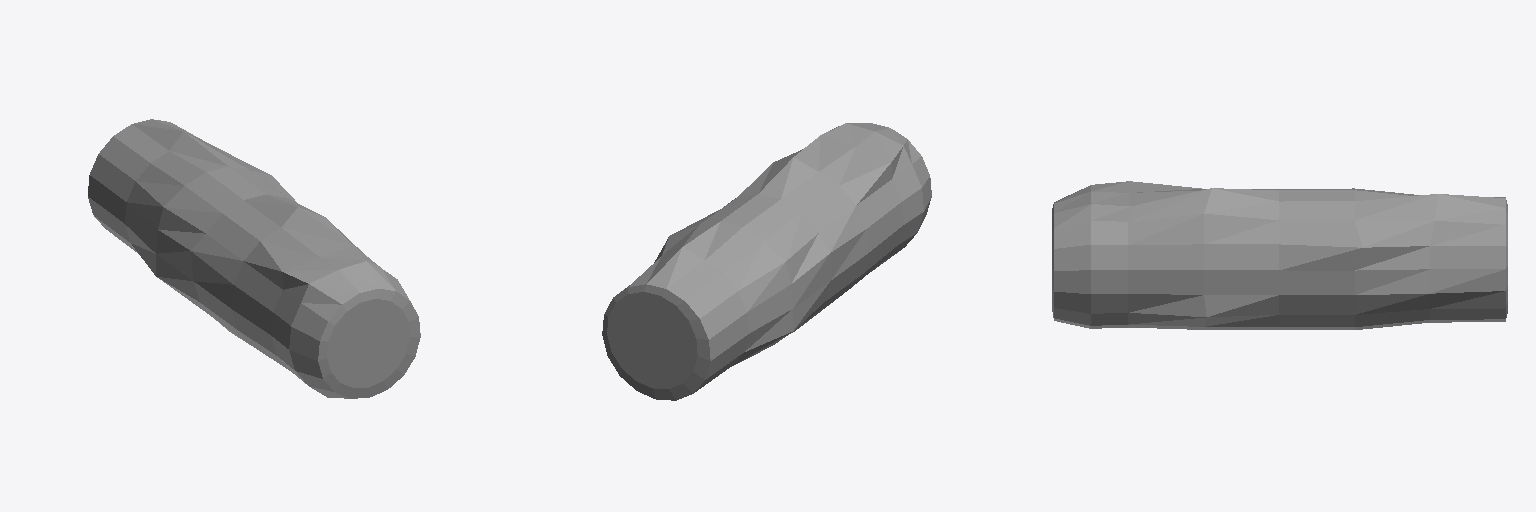
Rendered from wood.obj.
The picture shows the model from 3 angles: view 1: azimuth 30°, elevation 25°; view 2: azimuth 150°, elevation 25°; view 3: azimuth 270°, elevation 25°; orthographic projection.
Parts seen in each view (by area): view 1: Wood.001_Cylinder.006; view 2: Wood.001_Cylinder.006; view 3: Wood.001_Cylinder.006.
Part boxes in pixels (left/top/right/bottom): Wood.001_Cylinder.006: left=88, top=119, right=420, bottom=398; Wood.001_Cylinder.006: left=602, top=123, right=931, bottom=400; Wood.001_Cylinder.006: left=1052, top=181, right=1507, bottom=329.
Bounding box in the file's own units: 2.07 × 2.23 × 6.4.